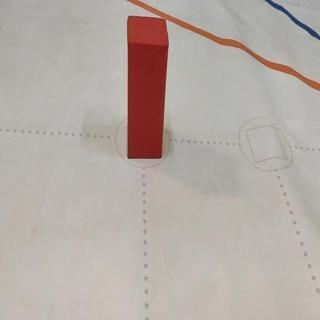redbox: (125, 14, 169, 160)
